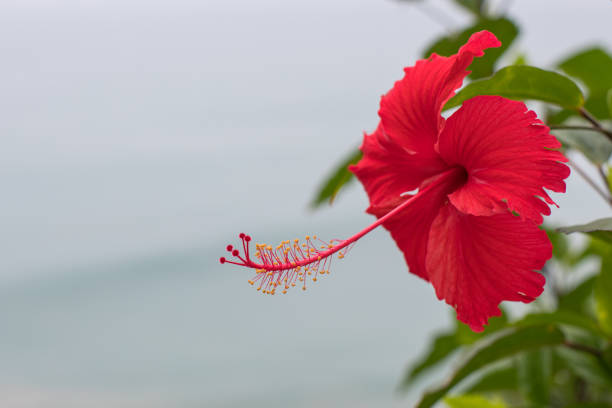Hibiscus: (211, 60, 556, 326)
